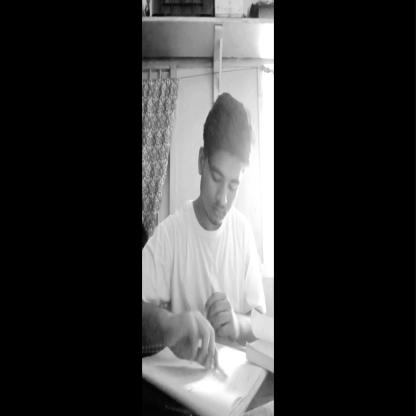Distracted: (197, 92, 263, 237)
